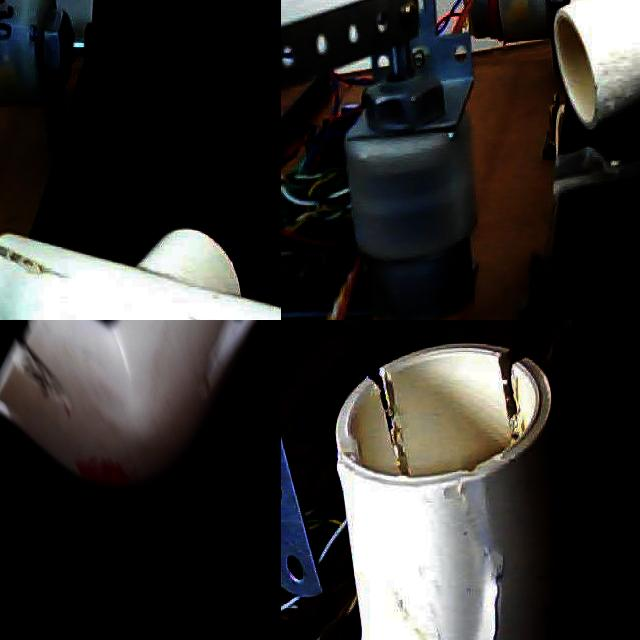Defective: (455, 516, 514, 640), (364, 375, 425, 489), (0, 243, 72, 302), (493, 346, 529, 448), (384, 375, 407, 474), (495, 352, 519, 438), (493, 575, 501, 640), (463, 588, 476, 605)
T Joint: (0, 226, 281, 320)
